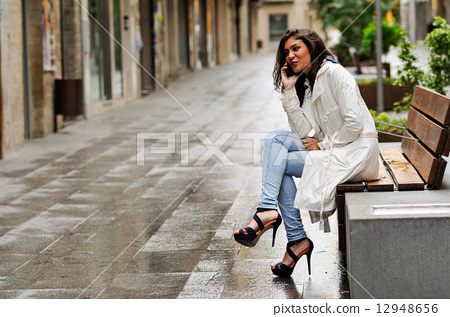phone: (276, 59, 295, 79)
talk: (280, 43, 308, 90)
